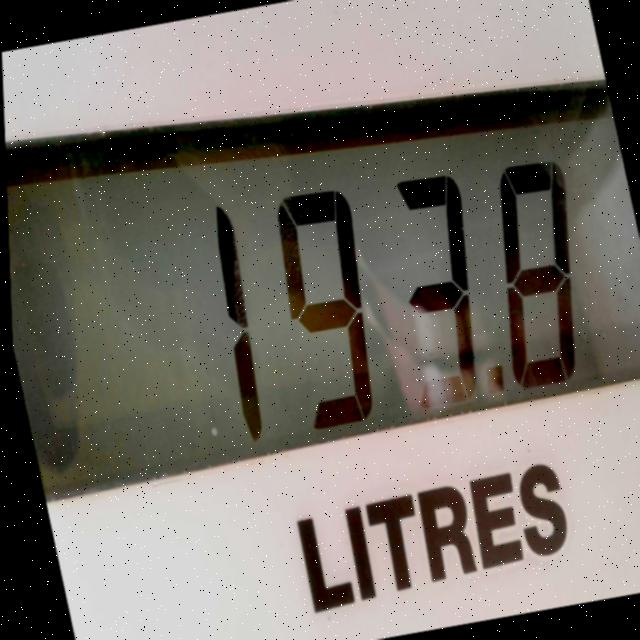.: (466, 345, 527, 431)
1: (184, 186, 288, 446)
3: (359, 147, 498, 437)
8: (460, 136, 611, 410)
9: (243, 168, 391, 462)
